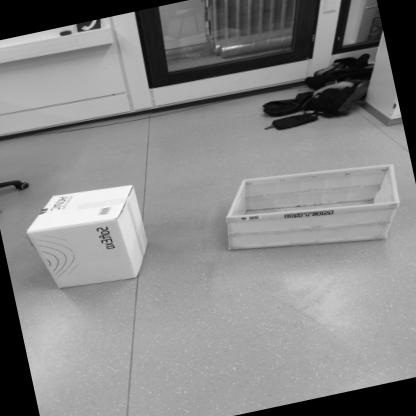box: (199, 146, 416, 279), (14, 154, 171, 315)
